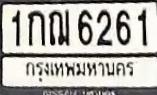1: (137, 8, 146, 45), (11, 10, 20, 46)
2: (96, 9, 111, 45)
6: (77, 9, 92, 44), (115, 9, 130, 44)
A01: (27, 10, 44, 45)
A12: (48, 9, 69, 45)
BKK: (22, 58, 137, 83)
